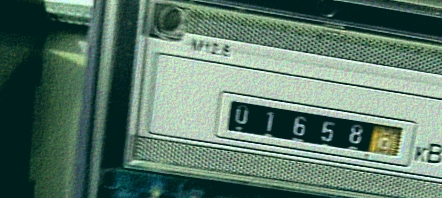0: (232, 103, 252, 126)
1: (261, 108, 278, 134)
5: (318, 118, 338, 144)
6: (290, 113, 311, 140)
8: (346, 122, 366, 147)
9: (374, 134, 393, 157)
screen: (210, 87, 422, 173)
